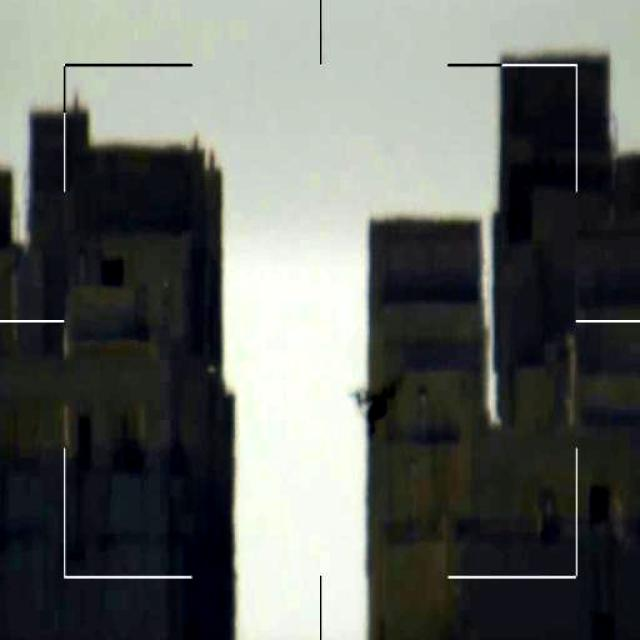bird: (346, 381, 399, 445)
